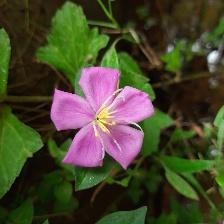malabar melastome: (49, 64, 158, 178)
